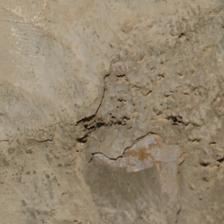Crack: (60, 56, 214, 164), (71, 43, 120, 120)
